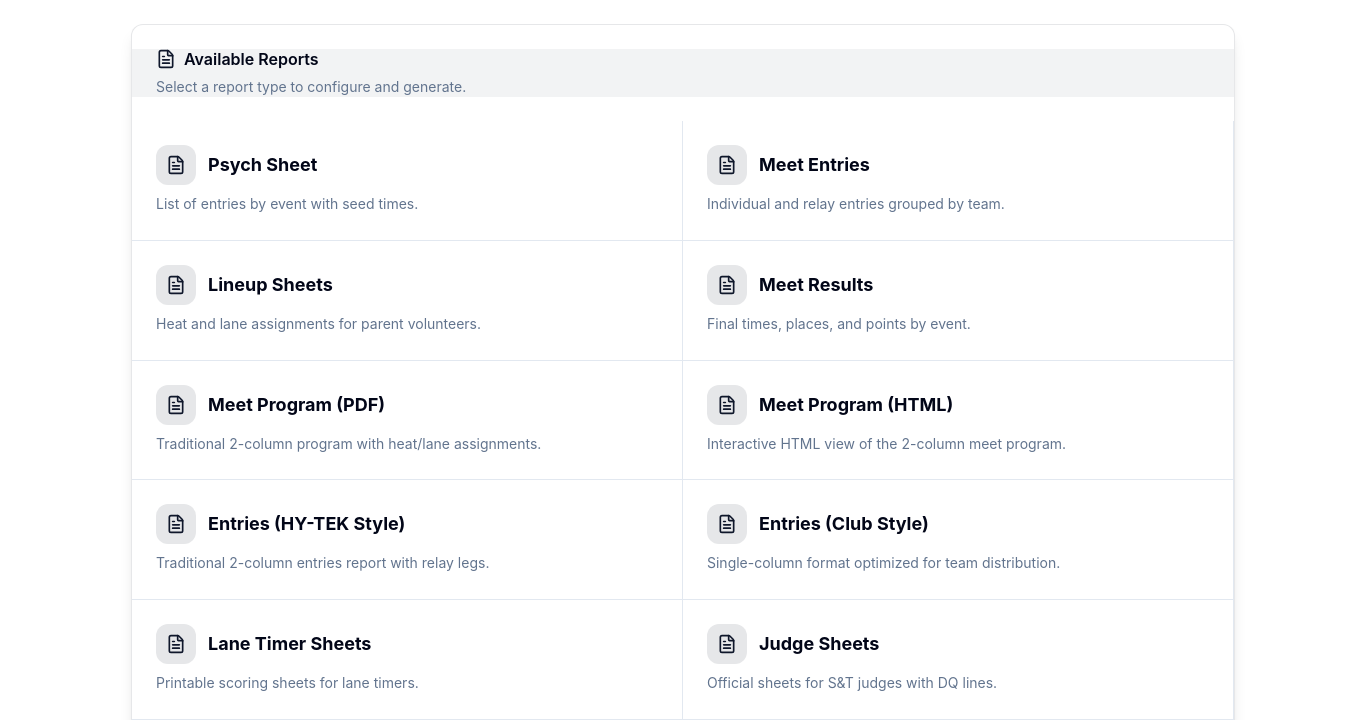
Test: ReportsManager › adds a report to the custom pack
This screenshot has width=1366, height=720.
// Select a report type first
Click the button with test id "report-card-psych-sheet" at point(176, 165), box [132,121,683,241]
(page scrolled)
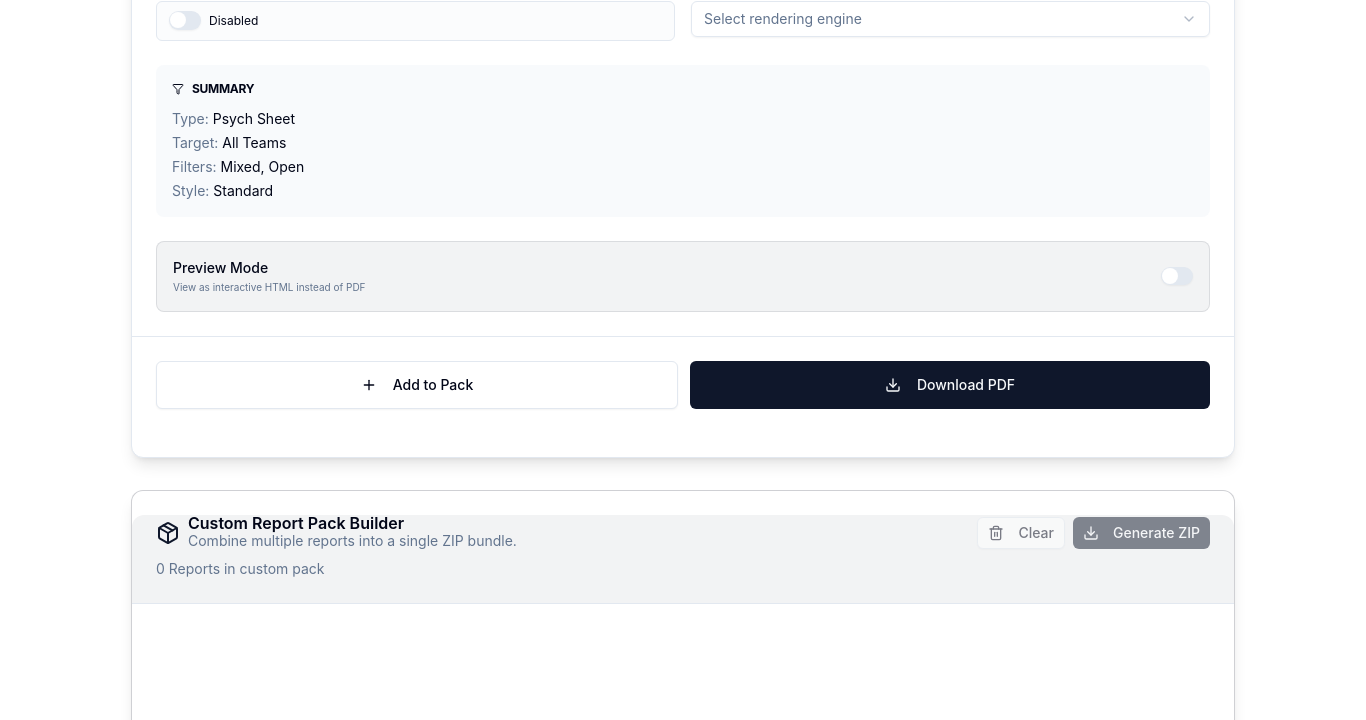
Click the button "Add to Pack" at point(417, 384), box [156,360,678,408]
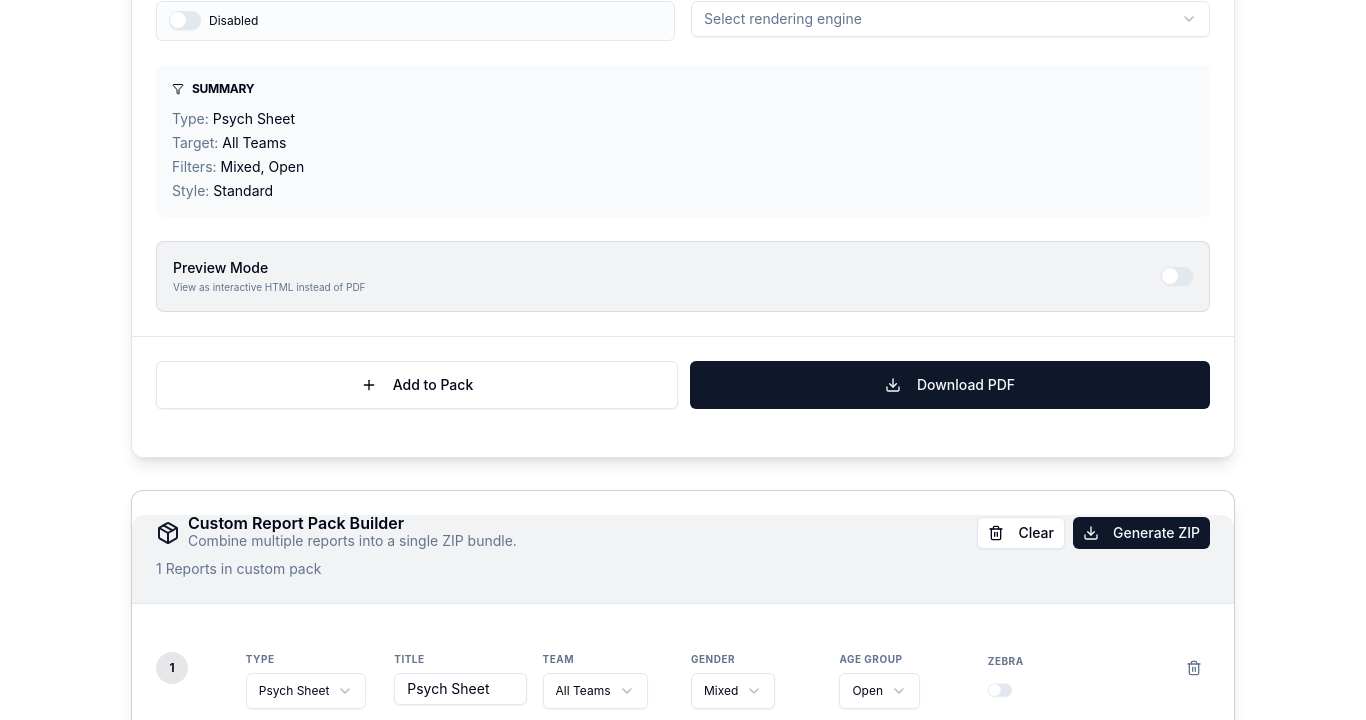
expect the text "1 Reports in custom pack" is shown: met, box [156,560,321,576]
expect the field showing "Psych Sheet" is shown: met, box [394,672,527,704]
